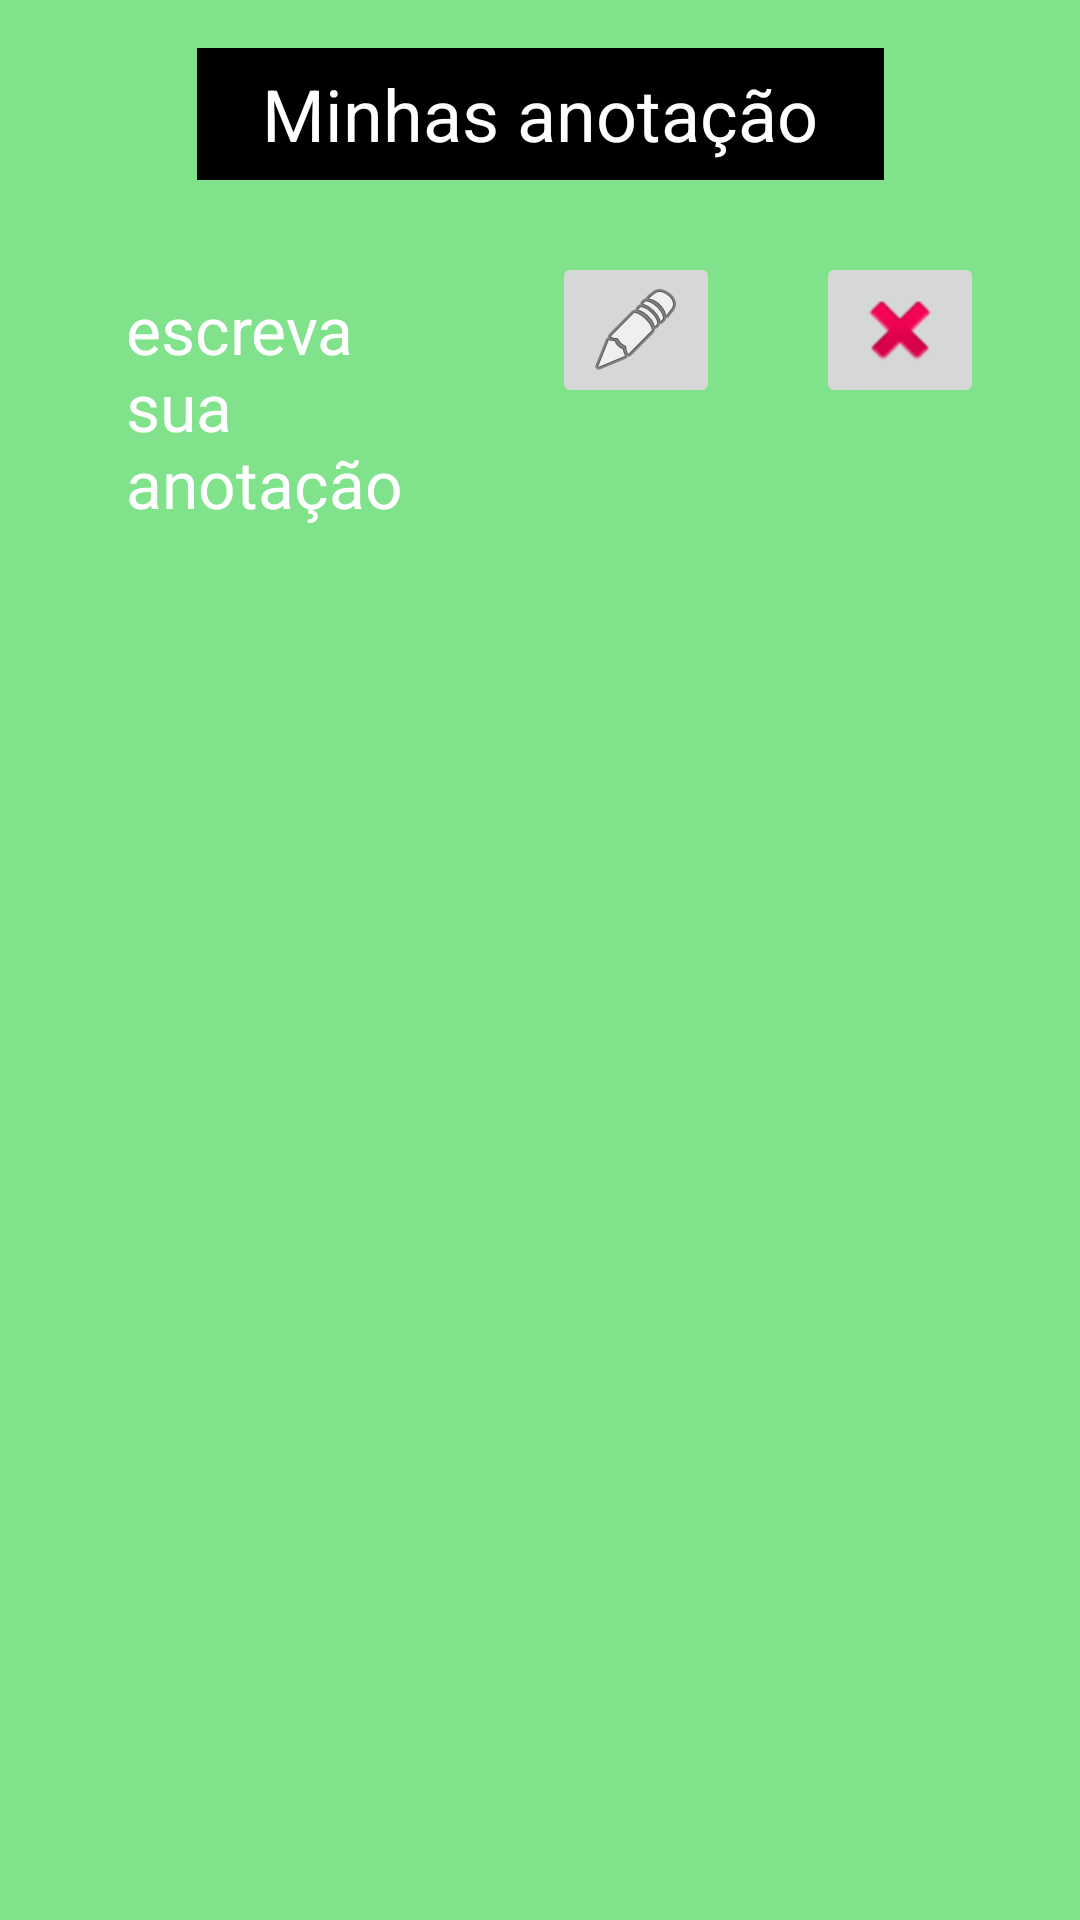

Screen size 1080×1920. Icon name, then its center in pixels as point (x, y):
delete: point (900, 330)
edit: point (636, 330)
